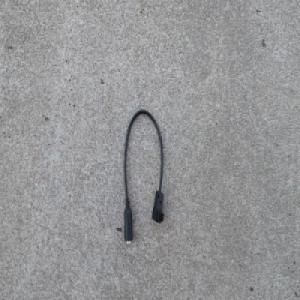Wire: (122, 107, 164, 246)
